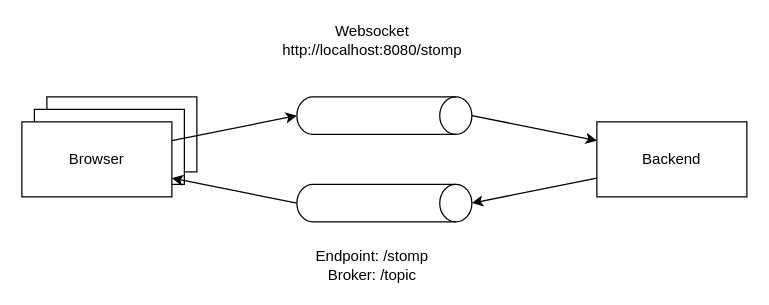
This 769x305 diagram has some shape labels left out. The box of each missing label's shape, as (x1, y1, x2, y2) in pixels:
/app/new-message: (296, 96, 472, 134)
/topic/messages: (296, 183, 472, 222)
